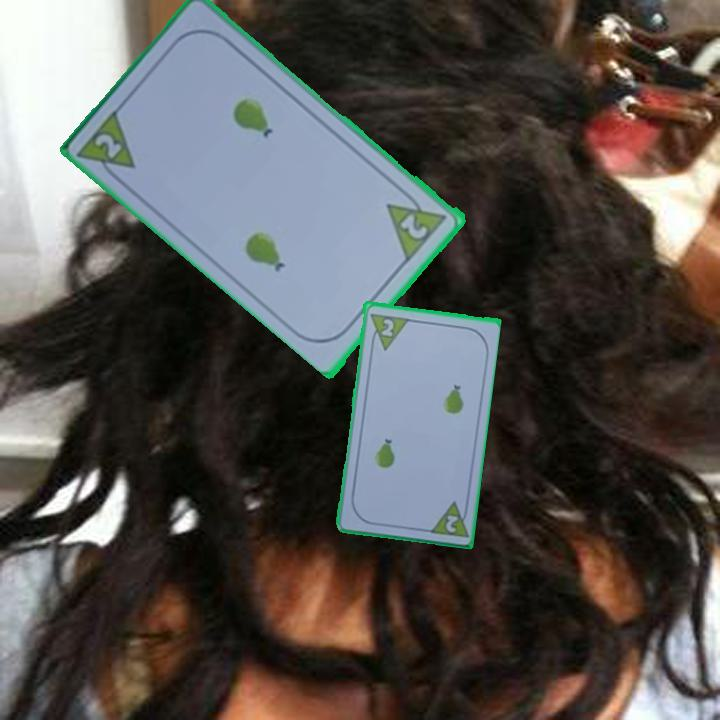2p: (383, 184, 451, 263), (366, 309, 410, 352), (91, 129, 126, 162), (442, 511, 461, 535)
